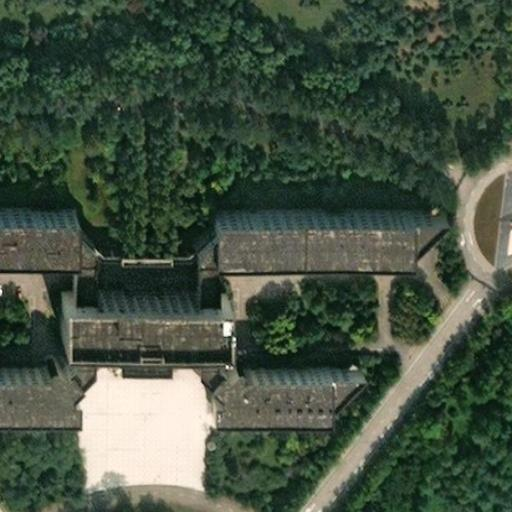building: (177, 330, 344, 395), (195, 199, 391, 241), (42, 282, 207, 330), (0, 330, 76, 394), (0, 193, 58, 237), (486, 170, 512, 262), (58, 209, 77, 282), (177, 213, 195, 282)
